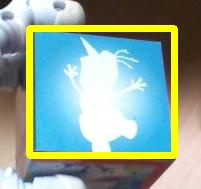Blue2: (29, 28, 174, 155)
